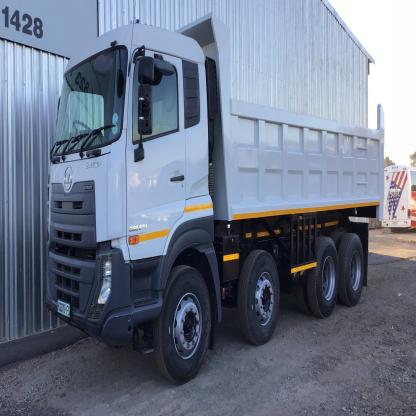dump_truck: (39, 7, 389, 383)
